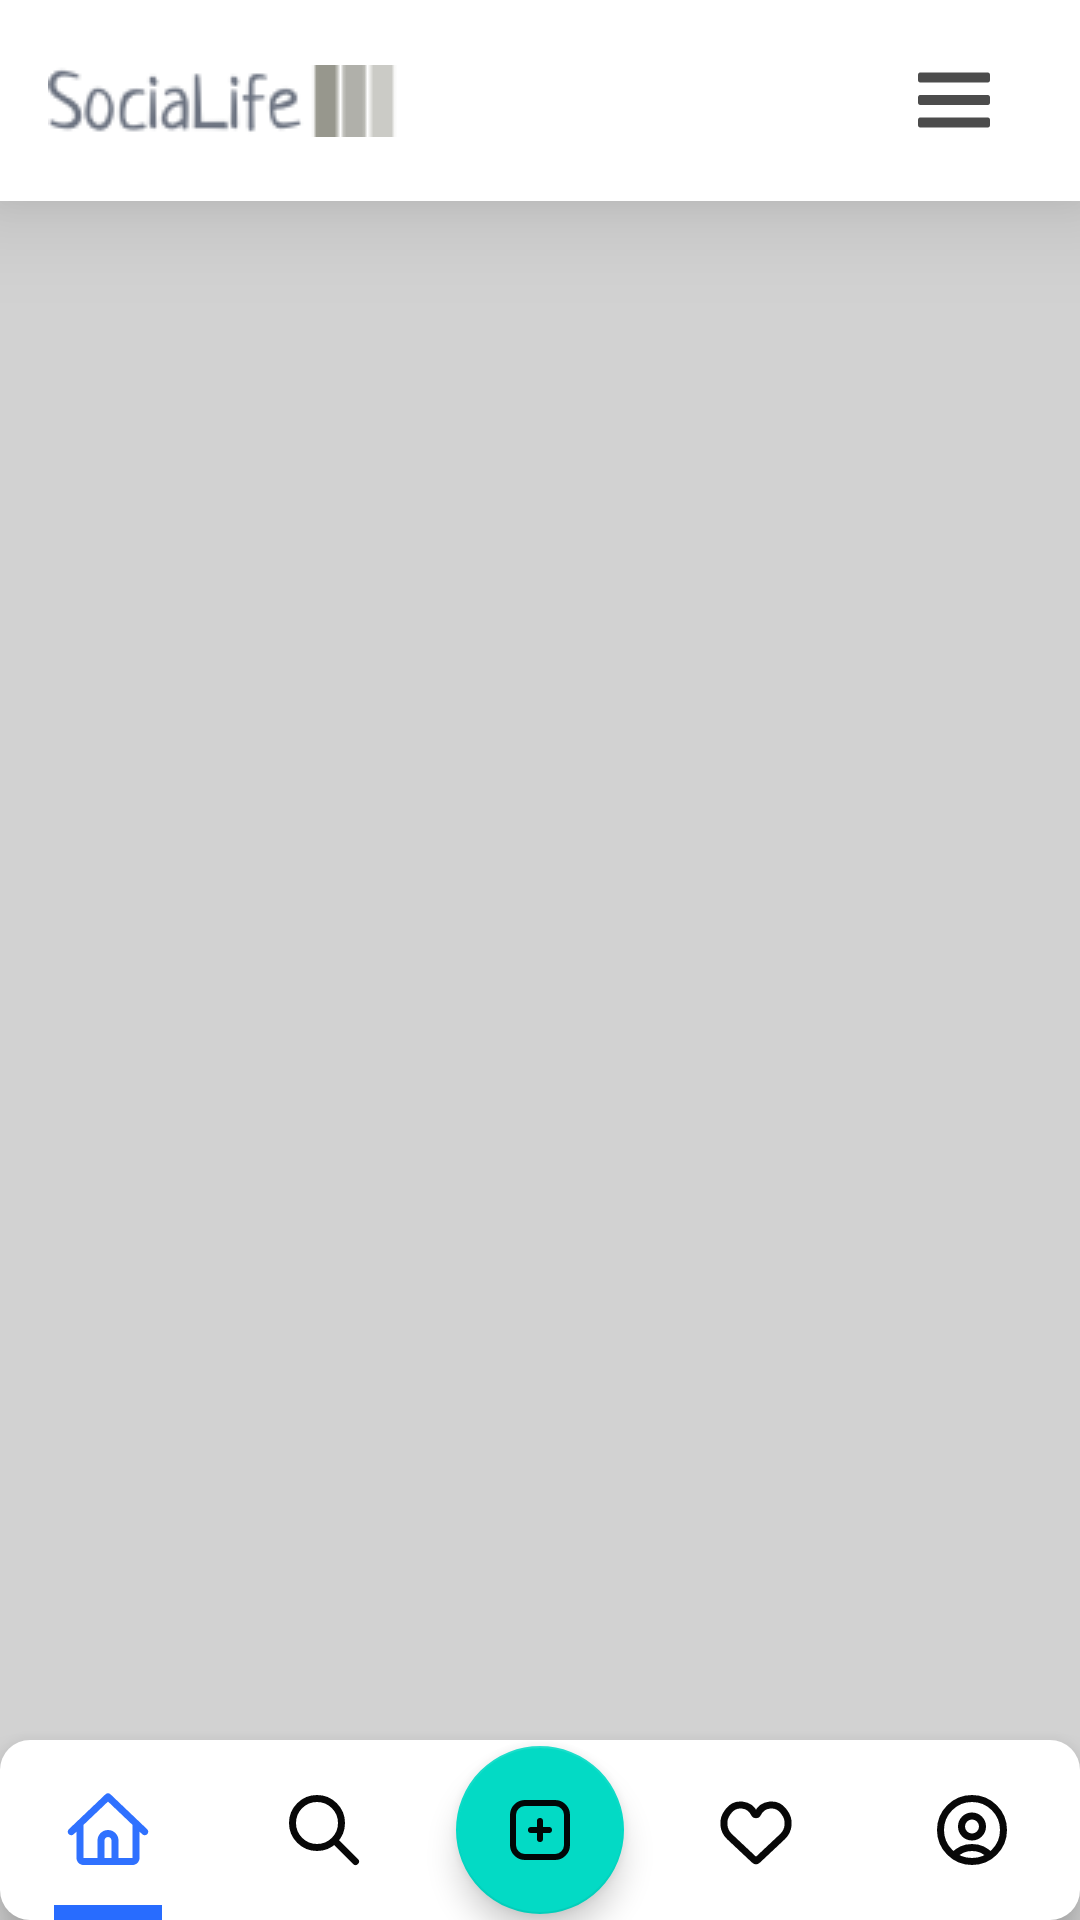

Screen size 1080*1920. Icon name, then its center in pixels as (x,y):
add square: (540,1830)
bars: (954,100)
